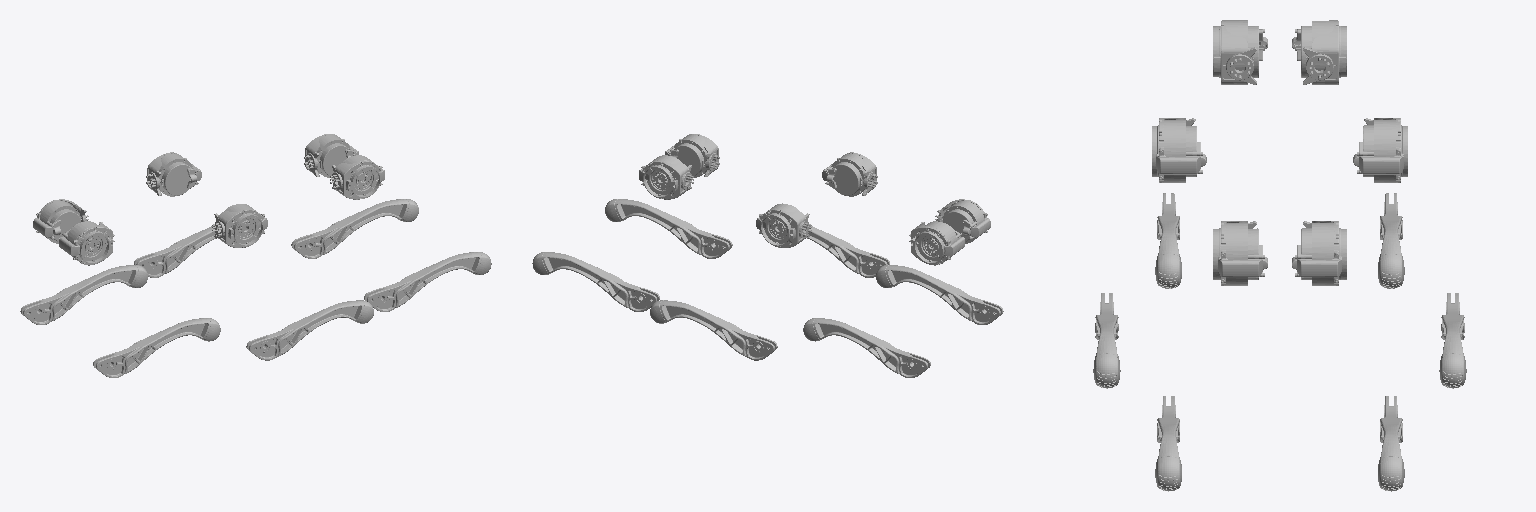
--- Render facts (derived) ---
3 views of the same robot in one strip: view 1: azimuth 30°, elevation 25°; view 2: azimuth 150°, elevation 25°; view 3: azimuth 270°, elevation 25° (orthographic).
Robot: dobot_hex — 26 links, 25 joints (18 revolute, 7 fixed); root link world; default pose: joints at zero except 6 at the middle of their limits (joint_front_left_calf_pitch = -1.66, joint_front_right_calf_pitch = -1.66, joint_mid_left_calf_pitch = -1.66, joint_mid_right_calf_pitch = -1.66, joint_rear_left_calf_pitch = -1.66, joint_rear_right_calf_pitch = -1.66).
Links seen in each view (by area): view 1: link_mid_right_calf, link_front_left_calf, link_rear_right_calf, link_rear_left_calf, link_front_right_calf, link_mid_left_hip, link_rear_right_hip, link_mid_right_hip, link_front_right_hip, link_mid_left_calf, link_front_left_hip, link_rear_left_hip; view 2: link_mid_left_calf, link_front_right_calf, link_rear_left_calf, link_rear_right_calf, link_front_left_calf, link_mid_right_hip, link_rear_left_hip, link_mid_left_hip, link_front_left_hip, link_mid_right_calf, link_front_right_hip, link_rear_right_hip; view 3: link_front_left_hip, link_rear_right_hip, link_front_right_hip, link_rear_left_hip, link_mid_left_hip, link_mid_right_hip, link_mid_left_calf, link_mid_right_calf, link_front_left_calf, link_front_right_calf, link_rear_left_calf, link_rear_right_calf.
Boxes of the visible links, box(x1,y1,x2,y2) form: link_mid_right_calf: box(246, 300, 373, 360); link_front_left_calf: box(291, 199, 418, 258); link_rear_right_calf: box(93, 318, 220, 377); link_rear_left_calf: box(20, 265, 147, 324); link_front_right_calf: box(364, 252, 491, 311); link_mid_left_hip: box(146, 152, 201, 196); link_rear_right_hip: box(59, 221, 114, 265); link_mid_right_hip: box(212, 204, 267, 247); link_front_right_hip: box(330, 155, 384, 199); link_mid_left_calf: box(134, 226, 216, 277); link_front_left_hip: box(304, 134, 358, 177); link_rear_left_hip: box(33, 199, 88, 243); link_mid_left_calf: box(650, 300, 777, 360); link_front_right_calf: box(605, 199, 732, 258); link_rear_left_calf: box(803, 318, 930, 377); link_rear_right_calf: box(876, 265, 1003, 324); link_front_left_calf: box(532, 252, 659, 311); link_mid_right_hip: box(822, 152, 877, 196); link_rear_left_hip: box(909, 221, 964, 265); link_mid_left_hip: box(756, 203, 811, 247); link_front_left_hip: box(639, 155, 693, 199); link_mid_right_calf: box(807, 226, 889, 277); link_front_right_hip: box(665, 134, 719, 177); link_rear_right_hip: box(935, 199, 990, 243); link_front_left_hip: box(1292, 221, 1346, 285); link_rear_right_hip: box(1213, 20, 1267, 84); link_front_right_hip: box(1213, 221, 1267, 285); link_rear_left_hip: box(1292, 20, 1346, 84); link_mid_left_hip: box(1353, 118, 1407, 182); link_mid_right_hip: box(1152, 118, 1206, 182); link_mid_left_calf: box(1439, 293, 1466, 388); link_mid_right_calf: box(1093, 293, 1120, 388); link_front_left_calf: box(1378, 396, 1404, 491); link_front_right_calf: box(1155, 396, 1181, 491); link_rear_left_calf: box(1378, 193, 1404, 288); link_rear_right_calf: box(1155, 193, 1181, 288).
Bounding box of the posed robot: 0.8908 × 0.4676 × 0.2915 m (x, y, z).
12 mesh visuals loaded from 5 distinct referenced files (2 binary STL); not drawn: 7 (reference not matched to a file when rendering).

The robot description file, URDF, robot "dobot_hex":
<?xml version="1.0" ?>
<!-- =================================================================================== -->
<!-- |    This document was autogenerated by xacro from dobot_hex.xacro              | -->
<!-- |    EDITING THIS FILE BY HAND IS NOT RECOMMENDED                                 | -->
<!-- =================================================================================== -->
<robot name="dobot_hex">
  <mujoco>
    <compiler balanceinertia="true" discardvisual="false" meshdir="../meshes/"/>
  </mujoco>
  <link name="world">
</link>
  <link name="link_trunk">
    <inertial>
      <origin rpy="0 0 0" xyz="0.010889 0.0 0.002427"/>
      <mass value="9.659"/>
      <inertia ixx="55062.22E-06" ixy="-36.04E-06" ixz="8679.7E-06" iyy="309879.53E-06" iyz="61.463E-06" izz="335289.14E-06"/>
    </inertial>
    <visual>
      <origin rpy="0 0 0" xyz="0 0 0"/>
      <geometry>
        <mesh filename="package://dobot_hex/meshes/trunk.STL"/>
      </geometry>
      <material name="">
        <color rgba="0.752941176470588 0.752941176470588 0.752941176470588 1"/>
      </material>
    </visual>
    <collision>
      <origin rpy="0 0 0" xyz="0 0 0"/>
      <geometry>
        <box size="0.5 0.1275 0.1"/>
      </geometry>
      <material>
        <color rgba="1.0 0.0 0.0 0.5"/>
      </material>
    </collision>
  </link>
  <joint name="joint_fixed_world" type="fixed">
    <origin rpy="0 0 0" xyz="0 0 0"/>
    <parent link="world"/>
    <child link="link_trunk"/>
  </joint>
  <link name="link_front_left_hip">
    <inertial>
      <origin rpy="0 0 0" xyz="-0.00249 0.00198 0.000018"/>
      <mass value="0.506"/>
      <inertia ixx="162.713E-06" ixy="-1.271e-05" ixz="0.0" iyy="293.236E-06" iyz="0.0" izz="258.577E-06"/>
    </inertial>
    <visual>
      <origin rpy="0 0 0" xyz="0 0 0"/>
      <geometry>
        <mesh filename="package://dobot_hex/meshes/hip.STL"/>
      </geometry>
      <material name="">
        <color rgba="0.752941176470588 0.752941176470588 0.752941176470588 1"/>
      </material>
    </visual>
    <collision>
      <origin rpy="1.5708 0 0" xyz="0 0.08 0"/>
      <geometry>
        <cylinder length="0.04" radius="0.048"/>
      </geometry>
    </collision>
  </link>
  <joint name="joint_front_left_abad" type="revolute">
    <origin rpy="0 0 0" xyz="0.3003 0.05 0"/>
    <parent link="link_trunk"/>
    <child link="link_front_left_hip"/>
    <axis xyz="1 0 0"/>
    <limit effort="17" lower="-0.6632" upper="0.6632" velocity="36"/>
  </joint>
  <link name="link_front_left_thigh">
    <inertial>
      <origin rpy="0 0 0" xyz="-0.00615 -0.01668 -0.0405"/>
      <mass value="1.094"/>
      <inertia ixx="6155E-06" ixy="-0.000105" ixz="0.00045" iyy="6140E-06" iyz="-0.000724" izz="805E-06"/>
    </inertial>
    <visual>
      <origin rpy="0 0 0" xyz="0 0 0"/>
      <geometry>
        <mesh filename="package://dobot_hex/meshes/thigh_left.STL"/>
      </geometry>
      <material name="">
        <color rgba="0.752941176470588 0.752941176470588 0.752941176470588 1"/>
      </material>
    </visual>
    <collision>
      <origin rpy="0 1.5708 0" xyz="-0.0225 0 -0.12"/>
      <geometry>
        <box size="0.12 0.024 0.033"/>
      </geometry>
    </collision>
  </link>
  <joint name="joint_front_left_thigh_pitch" type="revolute">
    <origin rpy="0 0 0" xyz="0.0  0.0893 0.0"/>
    <parent link="link_front_left_hip"/>
    <child link="link_front_left_thigh"/>
    <axis xyz="0 1 0"/>
    <limit effort="17" lower="-0.87266" upper="3.14159" velocity="36"/>
  </joint>
  <link name="link_front_left_calf">
    <inertial>
      <origin rpy="0 0 0" xyz="0.00209 0.0 -0.118722"/>
      <mass value="0.145"/>
      <inertia ixx="1143.834E-06" ixy="0.0E-06" ixz="-41.078E-06" iyy="1165.29E-06" iyz="0.0E-06" izz="34.028E-06"/>
    </inertial>
    <visual>
      <origin rpy="0 0 0" xyz="0 0 0"/>
      <geometry>
        <mesh filename="package://dobot_hex/meshes/calf.STL"/>
      </geometry>
      <material name="">
        <color rgba="0.752941176470588 0.752941176470588 0.752941176470588 1"/>
      </material>
    </visual>
    <collision>
      <origin rpy="0 -0.22 0" xyz="0.00 0 -0.06"/>
      <geometry>
        <cylinder length="0.12" radius="0.012"/>
      </geometry>
    </collision>
    <collision>
      <origin rpy="0 0 0" xyz="0.018 0 -0.16"/>
      <geometry>
        <cylinder length="0.065" radius="0.011"/>
      </geometry>
    </collision>
    <!--   <collision>
     <origin rpy="0 0 0" xyz="-0.002 0 -0.22" />
     <geometry>
       <sphere radius="0.022" />
     </geometry>
   </collision>-->
  </link>
  <joint name="joint_front_left_calf_pitch" type="revolute">
    <origin rpy="0 0 0" xyz="0.0 0.0 -0.22"/>
    <parent link="link_front_left_thigh"/>
    <child link="link_front_left_calf"/>
    <axis xyz="0 1 0"/>
    <limit effort="29" lower="-2.7925" upper="-0.5236" velocity="22"/>
  </joint>
  <link name="link_front_left_foot">
    <visual>
      <origin rpy="0 0 0" xyz="0 0 0"/>
      <geometry>
        <sphere radius="0.01"/>
      </geometry>
      <material name="">
        <color rgba="0.752941176470588 0.752941176470588 0.752941176470588 1"/>
      </material>
    </visual>
    <collision>
      <origin rpy="0 0 0" xyz="0 0 0"/>
      <geometry>
        <sphere radius="0.022"/>
      </geometry>
    </collision>
    <inertial>
      <mass value="0.06"/>
      <inertia ixx="9.6e-06" ixy="0.0" ixz="0.0" iyy="9.6e-06" iyz="0.0" izz="9.6e-06"/>
    </inertial>
  </link>
  <joint dont_collapse="true" name="front_left_foot_joint" type="fixed">
    <origin rpy="0 0 0" xyz="-0.002 0 -0.22"/>
    <parent link="link_front_left_calf"/>
    <child link="link_front_left_foot"/>
  </joint>
  <link name="link_front_right_hip">
    <inertial>
      <origin rpy="0 0 0" xyz="-0.00249 -0.00198 0.000018"/>
      <mass value="0.506"/>
      <inertia ixx="162.713E-06" ixy="1.271e-05" ixz="0.0" iyy="293.236E-06" iyz="-0.0" izz="258.577E-06"/>
    </inertial>
    <visual>
      <origin rpy="3.141592653589793 0 0" xyz="0 0 0"/>
      <geometry>
        <mesh filename="package://dobot_hex/meshes/hip.STL"/>
      </geometry>
      <material name="">
        <color rgba="0.752941176470588 0.752941176470588 0.752941176470588 1"/>
      </material>
    </visual>
    <collision>
      <origin rpy="1.5708 0 0" xyz="0 -0.08 0"/>
      <geometry>
        <cylinder length="0.04" radius="0.048"/>
      </geometry>
    </collision>
  </link>
  <joint name="joint_front_right_abad" type="revolute">
    <origin rpy="0 0 0" xyz="0.3003 -0.05 0"/>
    <parent link="link_trunk"/>
    <child link="link_front_right_hip"/>
    <axis xyz="1 0 0"/>
    <limit effort="17" lower="-0.6632" upper="0.6632" velocity="36"/>
  </joint>
  <link name="link_front_right_thigh">
    <inertial>
      <origin rpy="0 0 0" xyz="-0.00615 0.01668 -0.0405"/>
      <mass value="1.094"/>
      <inertia ixx="6155E-06" ixy="0.000105" ixz="0.00045" iyy="6140E-06" iyz="0.000724" izz="805E-06"/>
    </inertial>
    <visual>
      <origin rpy="0 0 0" xyz="0 0 0"/>
      <geometry>
        <mesh filename="package://dobot_hex/meshes/thigh_right.STL"/>
      </geometry>
      <material name="">
        <color rgba="0.752941176470588 0.752941176470588 0.752941176470588 1"/>
      </material>
    </visual>
    <collision>
      <origin rpy="0 1.5708 0" xyz="-0.0225 0 -0.12"/>
      <geometry>
        <box size="0.12 0.024 0.033"/>
      </geometry>
    </collision>
  </link>
  <joint name="joint_front_right_thigh_pitch" type="revolute">
    <origin rpy="0 0 0" xyz="0.0  -0.0893 0.0"/>
    <parent link="link_front_right_hip"/>
    <child link="link_front_right_thigh"/>
    <axis xyz="0 1 0"/>
    <limit effort="17" lower="-0.87266" upper="3.14159" velocity="36"/>
  </joint>
  <link name="link_front_right_calf">
    <inertial>
      <origin rpy="0 0 0" xyz="0.00209 0.0 -0.118722"/>
      <mass value="0.145"/>
      <inertia ixx="1143.834E-06" ixy="0.0E-06" ixz="-41.078E-06" iyy="1165.29E-06" iyz="0.0E-06" izz="34.028E-06"/>
    </inertial>
    <visual>
      <origin rpy="0 0 0" xyz="0 0 0"/>
      <geometry>
        <mesh filename="package://dobot_hex/meshes/calf.STL"/>
      </geometry>
      <material name="">
        <color rgba="0.752941176470588 0.752941176470588 0.752941176470588 1"/>
      </material>
    </visual>
    <collision>
      <origin rpy="0 -0.22 0" xyz="0.00 0 -0.06"/>
      <geometry>
        <cylinder length="0.12" radius="0.012"/>
      </geometry>
    </collision>
    <collision>
      <origin rpy="0 0 0" xyz="0.018 0 -0.16"/>
      <geometry>
        <cylinder length="0.065" radius="0.011"/>
      </geometry>
    </collision>
    <!--   <collision>
     <origin rpy="0 0 0" xyz="-0.002 0 -0.22" />
     <geometry>
       <sphere radius="0.022" />
     </geometry>
   </collision>-->
  </link>
  <joint name="joint_front_right_calf_pitch" type="revolute">
    <origin rpy="0 0 0" xyz="0.0 0.0 -0.22"/>
    <parent link="link_front_right_thigh"/>
    <child link="link_front_right_calf"/>
    <axis xyz="0 1 0"/>
    <limit effort="29" lower="-2.7925" upper="-0.5236" velocity="22"/>
  </joint>
  <link name="link_front_right_foot">
    <visual>
      <origin rpy="0 0 0" xyz="0 0 0"/>
      <geometry>
        <sphere radius="0.01"/>
      </geometry>
      <material name="">
        <color rgba="0.752941176470588 0.752941176470588 0.752941176470588 1"/>
      </material>
    </visual>
    <collision>
      <origin rpy="0 0 0" xyz="0 0 0"/>
      <geometry>
        <sphere radius="0.022"/>
      </geometry>
    </collision>
    <inertial>
      <mass value="0.06"/>
      <inertia ixx="9.6e-06" ixy="0.0" ixz="0.0" iyy="9.6e-06" iyz="0.0" izz="9.6e-06"/>
    </inertial>
  </link>
  <joint dont_collapse="true" name="front_right_foot_joint" type="fixed">
    <origin rpy="0 0 0" xyz="-0.002 0 -0.22"/>
    <parent link="link_front_right_calf"/>
    <child link="link_front_right_foot"/>
  </joint>
  <link name="link_mid_left_hip">
    <inertial>
      <origin rpy="0 0 0" xyz="-0.00249 0.00198 0.000018"/>
      <mass value="0.506"/>
      <inertia ixx="162.713E-06" ixy="-1.271e-05" ixz="0.0" iyy="293.236E-06" iyz="0.0" izz="258.577E-06"/>
    </inertial>
    <visual>
      <origin rpy="0 0 0" xyz="0 0 0"/>
      <geometry>
        <mesh filename="package://dobot_hex/meshes/hip.STL"/>
      </geometry>
      <material name="">
        <color rgba="0.752941176470588 0.752941176470588 0.752941176470588 1"/>
      </material>
    </visual>
    <collision>
      <origin rpy="1.5708 0 0" xyz="0 0.08 0"/>
      <geometry>
        <cylinder length="0.04" radius="0.048"/>
      </geometry>
    </collision>
  </link>
  <joint name="joint_mid_left_abad" type="revolute">
    <origin rpy="0 0 0" xyz="-0.005 0.1275 0"/>
    <parent link="link_trunk"/>
    <child link="link_mid_left_hip"/>
    <axis xyz="1 0 0"/>
    <limit effort="17" lower="-0.6632" upper="0.6632" velocity="36"/>
  </joint>
  <link name="link_mid_left_thigh">
    <inertial>
      <origin rpy="0 0 0" xyz="-0.00615 -0.01668 -0.0405"/>
      <mass value="1.094"/>
      <inertia ixx="6155E-06" ixy="-0.000105" ixz="0.00045" iyy="6140E-06" iyz="-0.000724" izz="805E-06"/>
    </inertial>
    <visual>
      <origin rpy="0 0 0" xyz="0 0 0"/>
      <geometry>
        <mesh filename="package://dobot_hex/meshes/thigh_left.STL"/>
      </geometry>
      <material name="">
        <color rgba="0.752941176470588 0.752941176470588 0.752941176470588 1"/>
      </material>
    </visual>
    <collision>
      <origin rpy="0 1.5708 0" xyz="-0.0225 0 -0.12"/>
      <geometry>
        <box size="0.12 0.024 0.033"/>
      </geometry>
    </collision>
  </link>
  <joint name="joint_mid_left_thigh_pitch" type="revolute">
    <origin rpy="0 0 0" xyz="0.0  0.0893 0.0"/>
    <parent link="link_mid_left_hip"/>
    <child link="link_mid_left_thigh"/>
    <axis xyz="0 1 0"/>
    <limit effort="17" lower="-0.87266" upper="3.14159" velocity="36"/>
  </joint>
  <link name="link_mid_left_calf">
    <inertial>
      <origin rpy="0 0 0" xyz="0.00209 0.0 -0.118722"/>
      <mass value="0.145"/>
      <inertia ixx="1143.834E-06" ixy="0.0E-06" ixz="-41.078E-06" iyy="1165.29E-06" iyz="0.0E-06" izz="34.028E-06"/>
    </inertial>
    <visual>
      <origin rpy="0 0 0" xyz="0 0 0"/>
      <geometry>
        <mesh filename="package://dobot_hex/meshes/calf.STL"/>
      </geometry>
      <material name="">
        <color rgba="0.752941176470588 0.752941176470588 0.752941176470588 1"/>
      </material>
    </visual>
    <collision>
      <origin rpy="0 -0.22 0" xyz="0.00 0 -0.06"/>
      <geometry>
        <cylinder length="0.12" radius="0.012"/>
      </geometry>
    </collision>
    <collision>
      <origin rpy="0 0 0" xyz="0.018 0 -0.16"/>
      <geometry>
        <cylinder length="0.065" radius="0.011"/>
      </geometry>
    </collision>
    <!--   <collision>
     <origin rpy="0 0 0" xyz="-0.002 0 -0.22" />
     <geometry>
       <sphere radius="0.022" />
     </geometry>
   </collision>-->
  </link>
  <joint name="joint_mid_left_calf_pitch" type="revolute">
    <origin rpy="0 0 0" xyz="0.0 0.0 -0.22"/>
    <parent link="link_mid_left_thigh"/>
    <child link="link_mid_left_calf"/>
    <axis xyz="0 1 0"/>
    <limit effort="29" lower="-2.7925" upper="-0.5236" velocity="22"/>
  </joint>
  <link name="link_mid_left_foot">
    <visual>
      <origin rpy="0 0 0" xyz="0 0 0"/>
      <geometry>
        <sphere radius="0.01"/>
      </geometry>
      <material name="">
        <color rgba="0.752941176470588 0.752941176470588 0.752941176470588 1"/>
      </material>
    </visual>
    <collision>
      <origin rpy="0 0 0" xyz="0 0 0"/>
      <geometry>
        <sphere radius="0.022"/>
      </geometry>
    </collision>
    <inertial>
      <mass value="0.06"/>
      <inertia ixx="9.6e-06" ixy="0.0" ixz="0.0" iyy="9.6e-06" iyz="0.0" izz="9.6e-06"/>
    </inertial>
  </link>
  <joint dont_collapse="true" name="mid_left_foot_joint" type="fixed">
    <origin rpy="0 0 0" xyz="-0.002 0 -0.22"/>
    <parent link="link_mid_left_calf"/>
    <child link="link_mid_left_foot"/>
  </joint>
  <link name="link_mid_right_hip">
    <inertial>
      <origin rpy="0 0 0" xyz="-0.00249 -0.00198 0.000018"/>
      <mass value="0.506"/>
      <inertia ixx="162.713E-06" ixy="1.271e-05" ixz="0.0" iyy="293.236E-06" iyz="-0.0" izz="258.577E-06"/>
    </inertial>
    <visual>
      <origin rpy="3.141592653589793 0 0" xyz="0 0 0"/>
      <geometry>
        <mesh filename="package://dobot_hex/meshes/hip.STL"/>
      </geometry>
      <material name="">
        <color rgba="0.752941176470588 0.752941176470588 0.752941176470588 1"/>
      </material>
    </visual>
    <collision>
      <origin rpy="1.5708 0 0" xyz="0 -0.08 0"/>
      <geometry>
        <cylinder length="0.04" radius="0.048"/>
      </geometry>
    </collision>
  </link>
  <joint name="joint_mid_right_abad" type="revolute">
    <origin rpy="0 0 0" xyz="-0.005 -0.1275 0"/>
    <parent link="link_trunk"/>
    <child link="link_mid_right_hip"/>
    <axis xyz="1 0 0"/>
    <limit effort="17" lower="-0.6632" upper="0.6632" velocity="36"/>
  </joint>
  <link name="link_mid_right_thigh">
    <inertial>
      <origin rpy="0 0 0" xyz="-0.00615 0.01668 -0.0405"/>
      <mass value="1.094"/>
      <inertia ixx="6155E-06" ixy="0.000105" ixz="0.00045" iyy="6140E-06" iyz="0.000724" izz="805E-06"/>
    </inertial>
    <visual>
      <origin rpy="0 0 0" xyz="0 0 0"/>
      <geometry>
        <mesh filename="package://dobot_hex/meshes/thigh_right.STL"/>
      </geometry>
      <material name="">
        <color rgba="0.752941176470588 0.752941176470588 0.752941176470588 1"/>
      </material>
    </visual>
    <collision>
      <origin rpy="0 1.5708 0" xyz="-0.0225 0 -0.12"/>
      <geometry>
        <box size="0.12 0.024 0.033"/>
      </geometry>
    </collision>
  </link>
  <joint name="joint_mid_right_thigh_pitch" type="revolute">
    <origin rpy="0 0 0" xyz="0.0  -0.0893 0.0"/>
    <parent link="link_mid_right_hip"/>
    <child link="link_mid_right_thigh"/>
    <axis xyz="0 1 0"/>
    <limit effort="17" lower="-0.87266" upper="3.14159" velocity="36"/>
  </joint>
  <link name="link_mid_right_calf">
    <inertial>
      <origin rpy="0 0 0" xyz="0.00209 0.0 -0.118722"/>
      <mass value="0.145"/>
      <inertia ixx="1143.834E-06" ixy="0.0E-06" ixz="-41.078E-06" iyy="1165.29E-06" iyz="0.0E-06" izz="34.028E-06"/>
    </inertial>
    <visual>
      <origin rpy="0 0 0" xyz="0 0 0"/>
      <geometry>
        <mesh filename="package://dobot_hex/meshes/calf.STL"/>
      </geometry>
      <material name="">
        <color rgba="0.752941176470588 0.752941176470588 0.752941176470588 1"/>
      </material>
    </visual>
    <collision>
      <origin rpy="0 -0.22 0" xyz="0.00 0 -0.06"/>
      <geometry>
        <cylinder length="0.12" radius="0.012"/>
      </geometry>
    </collision>
    <collision>
      <origin rpy="0 0 0" xyz="0.018 0 -0.16"/>
      <geometry>
        <cylinder length="0.065" radius="0.011"/>
      </geometry>
    </collision>
    <!--   <collision>
     <origin rpy="0 0 0" xyz="-0.002 0 -0.22" />
     <geometry>
       <sphere radius="0.022" />
     </geometry>
   </collision>-->
  </link>
  <joint name="joint_mid_right_calf_pitch" type="revolute">
    <origin rpy="0 0 0" xyz="0.0 0.0 -0.22"/>
    <parent link="link_mid_right_thigh"/>
    <child link="link_mid_right_calf"/>
    <axis xyz="0 1 0"/>
    <limit effort="29" lower="-2.7925" upper="-0.5236" velocity="22"/>
  </joint>
  <link name="link_mid_right_foot">
    <visual>
      <origin rpy="0 0 0" xyz="0 0 0"/>
      <geometry>
        <sphere radius="0.01"/>
      </geometry>
      <material name="">
        <color rgba="0.752941176470588 0.752941176470588 0.752941176470588 1"/>
      </material>
    </visual>
    <collision>
      <origin rpy="0 0 0" xyz="0 0 0"/>
      <geometry>
        <sphere radius="0.022"/>
      </geometry>
    </collision>
    <inertial>
      <mass value="0.06"/>
      <inertia ixx="9.6e-06" ixy="0.0" ixz="0.0" iyy="9.6e-06" iyz="0.0" izz="9.6e-06"/>
    </inertial>
  </link>
  <joint dont_collapse="true" name="mid_right_foot_joint" type="fixed">
    <origin rpy="0 0 0" xyz="-0.002 0 -0.22"/>
    <parent link="link_mid_right_calf"/>
    <child link="link_mid_right_foot"/>
  </joint>
  <link name="link_rear_left_hip">
    <inertial>
      <origin rpy="0 0 0" xyz="0.00249 0.00198 0.000018"/>
      <mass value="0.506"/>
      <inertia ixx="162.713E-06" ixy="1.271e-05" ixz="-0.0" iyy="293.236E-06" iyz="0.0" izz="258.577E-06"/>
    </inertial>
    <visual>
      <origin rpy="0 3.141592653589793 0" xyz="0 0 0"/>
      <geometry>
        <mesh filename="package://dobot_hex/meshes/hip.STL"/>
      </geometry>
      <material name="">
        <color rgba="0.752941176470588 0.752941176470588 0.752941176470588 1"/>
      </material>
    </visual>
    <collision>
      <origin rpy="1.5708 0 0" xyz="0 0.08 0"/>
      <geometry>
        <cylinder length="0.04" radius="0.048"/>
      </geometry>
    </collision>
  </link>
  <joint name="joint_rear_left_abad" type="revolute">
    <origin rpy="0 0 0" xyz="-0.3003 0.05 0"/>
    <parent link="link_trunk"/>
    <child link="link_rear_left_hip"/>
    <axis xyz="1 0 0"/>
    <limit effort="17" lower="-0.6632" upper="0.6632" velocity="36"/>
  </joint>
  <link name="link_rear_left_thigh">
    <inertial>
      <origin rpy="0 0 0" xyz="0.00615 -0.01668 -0.0405"/>
      <mass value="1.094"/>
      <inertia ixx="6155E-06" ixy="0.000105" ixz="-0.00045" iyy="6140E-06" iyz="-0.000724" izz="805E-06"/>
    </inertial>
    <visual>
      <origin rpy="0 0 0" xyz="0 0 0"/>
      <geometry>
        <mesh filename="package://dobot_hex/meshes/thigh_left.STL"/>
      </geometry>
      <material name="">
        <color rgba="0.752941176470588 0.752941176470588 0.752941176470588 1"/>
      </material>
    </visual>
    <collision>
      <origin rpy="0 1.5708 0" xyz="-0.0225 0 -0.12"/>
      <geometry>
        <box size="0.12 0.024 0.033"/>
      </geometry>
    </collision>
  </link>
  <joint name="joint_rear_left_thigh_pitch" type="revolute">
    <origin rpy="0 0 0" xyz="-0.0  0.0893 0.0"/>
    <parent link="link_rear_left_hip"/>
    <child link="link_rear_left_thigh"/>
    <axis xyz="0 1 0"/>
    <limit effort="17" lower="-0.87266" upper="4.1713" velocity="37.7"/>
  </joint>
  <link name="link_rear_left_calf">
    <inertial>
      <origin rpy="0 0 0" xyz="0.00209 0.0 -0.118722"/>
      <mass value="0.145"/>
      <inertia ixx="1143.834E-06" ixy="0.0E-06" ixz="-41.078E-06" iyy="1165.29E-06" iyz="0.0E-06" izz="34.028E-06"/>
    </inertial>
    <visual>
      <origin rpy="0 0 0" xyz="0 0 0"/>
      <geometry>
        <mesh filename="package://dobot_hex/meshes/calf.STL"/>
      </geometry>
      <material name="">
        <color rgba="0.752941176470588 0.752941176470588 0.752941176470588 1"/>
      </material>
    </visual>
    <collision>
      <origin rpy="0 -0.22 0" xyz="0.00 0 -0.06"/>
      <geometry>
        <cylinder length="0.12" radius="0.012"/>
      </geometry>
    </collision>
    <collision>
      <origin rpy="0 0 0" xyz="0.018 0 -0.16"/>
      <geometry>
        <cylinder length="0.065" radius="0.011"/>
      </geometry>
    </collision>
    <!--   <collision>
     <origin rpy="0 0 0" xyz="-0.002 0 -0.22" />
     <geometry>
       <sphere radius="0.022" />
     </geometry>
   </collision>-->
  </link>
  <joint name="joint_rear_left_calf_pitch" type="revolute">
    <origin rpy="0 0 0" xyz="0.0 0.0 -0.22"/>
    <parent link="link_rear_left_thigh"/>
    <child link="link_rear_left_calf"/>
    <axis xyz="0 1 0"/>
    <limit effort="29" lower="-2.7925" upper="-0.5236" velocity="22"/>
  </joint>
  <link name="link_rear_left_foot">
    <visual>
      <origin rpy="0 0 0" xyz="0 0 0"/>
      <geometry>
        <sphere radius="0.01"/>
      </geometry>
      <material name="">
        <color rgba="0.752941176470588 0.752941176470588 0.752941176470588 1"/>
      </material>
    </visual>
    <collision>
      <origin rpy="0 0 0" xyz="0 0 0"/>
      <geometry>
        <sphere radius="0.022"/>
      </geometry>
    </collision>
    <inertial>
      <mass value="0.06"/>
      <inertia ixx="9.6e-06" ixy="0.0" ixz="0.0" iyy="9.6e-06" iyz="0.0" izz="9.6e-06"/>
    </inertial>
  </link>
  <joint dont_collapse="true" name="rear_left_foot_joint" type="fixed">
    <origin rpy="0 0 0" xyz="-0.002 0 -0.22"/>
    <parent link="link_rear_left_calf"/>
    <child link="link_rear_left_foot"/>
  </joint>
  <link name="link_rear_right_hip">
    <inertial>
      <origin rpy="0 0 0" xyz="0.00249 -0.00198 0.000018"/>
      <mass value="0.506"/>
      <inertia ixx="162.713E-06" ixy="-1.271e-05" ixz="-0.0" iyy="293.236E-06" iyz="-0.0" izz="258.577E-06"/>
    </inertial>
    <visual>
      <origin rpy="3.141592653589793 3.141592653589793 0" xyz="0 0 0"/>
      <geometry>
        <mesh filename="package://dobot_hex/meshes/hip.STL"/>
      </geometry>
      <material name="">
        <color rgba="0.752941176470588 0.752941176470588 0.752941176470588 1"/>
      </material>
    </visual>
    <collision>
      <origin rpy="1.5708 0 0" xyz="0 -0.08 0"/>
      <geometry>
        <cylinder length="0.04" radius="0.048"/>
      </geometry>
    </collision>
  </link>
  <joint name="joint_rear_right_abad" type="revolute">
    <origin rpy="0 0 0" xyz="-0.3003 -0.05 0"/>
    <parent link="link_trunk"/>
    <child link="link_rear_right_hip"/>
    <axis xyz="1 0 0"/>
    <limit effort="17" lower="-0.6632" upper="0.6632" velocity="36"/>
  </joint>
  <link name="link_rear_right_thigh">
    <inertial>
      <origin rpy="0 0 0" xyz="0.00615 0.01668 -0.0405"/>
      <mass value="1.094"/>
      <inertia ixx="6155E-06" ixy="-0.000105" ixz="-0.00045" iyy="6140E-06" iyz="0.000724" izz="805E-06"/>
    </inertial>
    <visual>
      <origin rpy="0 0 0" xyz="0 0 0"/>
      <geometry>
        <mesh filename="package://dobot_hex/meshes/thigh_right.STL"/>
      </geometry>
      <material name="">
        <color rgba="0.752941176470588 0.752941176470588 0.752941176470588 1"/>
      </material>
    </visual>
    <collision>
      <origin rpy="0 1.5708 0" xyz="-0.0225 0 -0.12"/>
      <geometry>
        <box size="0.12 0.024 0.033"/>
      </geometry>
    </collision>
  </link>
  <joint name="joint_rear_right_thigh_pitch" type="revolute">
    <origin rpy="0 0 0" xyz="-0.0  -0.0893 0.0"/>
    <parent link="link_rear_right_hip"/>
    <child link="link_rear_right_thigh"/>
    <axis xyz="0 1 0"/>
    <limit effort="17" lower="-0.87266" upper="4.1713" velocity="37.7"/>
  </joint>
  <link name="link_rear_right_calf">
    <inertial>
      <origin rpy="0 0 0" xyz="0.00209 0.0 -0.118722"/>
      <mass value="0.145"/>
      <inertia ixx="1143.834E-06" ixy="0.0E-06" ixz="-41.078E-06" iyy="1165.29E-06" iyz="0.0E-06" izz="34.028E-06"/>
    </inertial>
    <visual>
      <origin rpy="0 0 0" xyz="0 0 0"/>
      <geometry>
        <mesh filename="package://dobot_hex/meshes/calf.STL"/>
      </geometry>
      <material name="">
        <color rgba="0.752941176470588 0.752941176470588 0.752941176470588 1"/>
      </material>
    </visual>
    <collision>
      <origin rpy="0 -0.22 0" xyz="0.00 0 -0.06"/>
      <geometry>
        <cylinder length="0.12" radius="0.012"/>
      </geometry>
    </collision>
    <collision>
      <origin rpy="0 0 0" xyz="0.018 0 -0.16"/>
      <geometry>
        <cylinder length="0.065" radius="0.011"/>
      </geometry>
    </collision>
    <!--   <collision>
     <origin rpy="0 0 0" xyz="-0.002 0 -0.22" />
     <geometry>
       <sphere radius="0.022" />
     </geometry>
   </collision>-->
  </link>
  <joint name="joint_rear_right_calf_pitch" type="revolute">
    <origin rpy="0 0 0" xyz="0.0 0.0 -0.22"/>
    <parent link="link_rear_right_thigh"/>
    <child link="link_rear_right_calf"/>
    <axis xyz="0 1 0"/>
    <limit effort="29" lower="-2.7925" upper="-0.5236" velocity="22"/>
  </joint>
  <link name="link_rear_right_foot">
    <visual>
      <origin rpy="0 0 0" xyz="0 0 0"/>
      <geometry>
        <sphere radius="0.01"/>
      </geometry>
      <material name="">
        <color rgba="0.752941176470588 0.752941176470588 0.752941176470588 1"/>
      </material>
    </visual>
    <collision>
      <origin rpy="0 0 0" xyz="0 0 0"/>
      <geometry>
        <sphere radius="0.022"/>
      </geometry>
    </collision>
    <inertial>
      <mass value="0.06"/>
      <inertia ixx="9.6e-06" ixy="0.0" ixz="0.0" iyy="9.6e-06" iyz="0.0" izz="9.6e-06"/>
    </inertial>
  </link>
  <joint dont_collapse="true" name="rear_right_foot_joint" type="fixed">
    <origin rpy="0 0 0" xyz="-0.002 0 -0.22"/>
    <parent link="link_rear_right_calf"/>
    <child link="link_rear_right_foot"/>
  </joint>
</robot>
